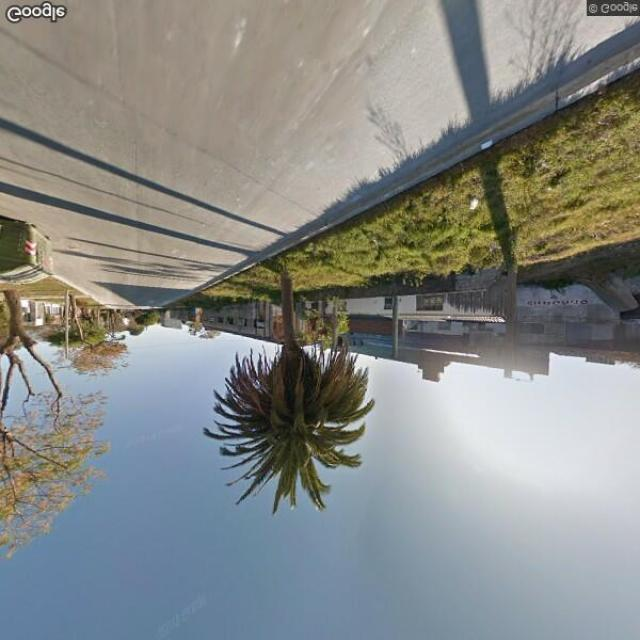garbage container: (2, 215, 64, 294)
